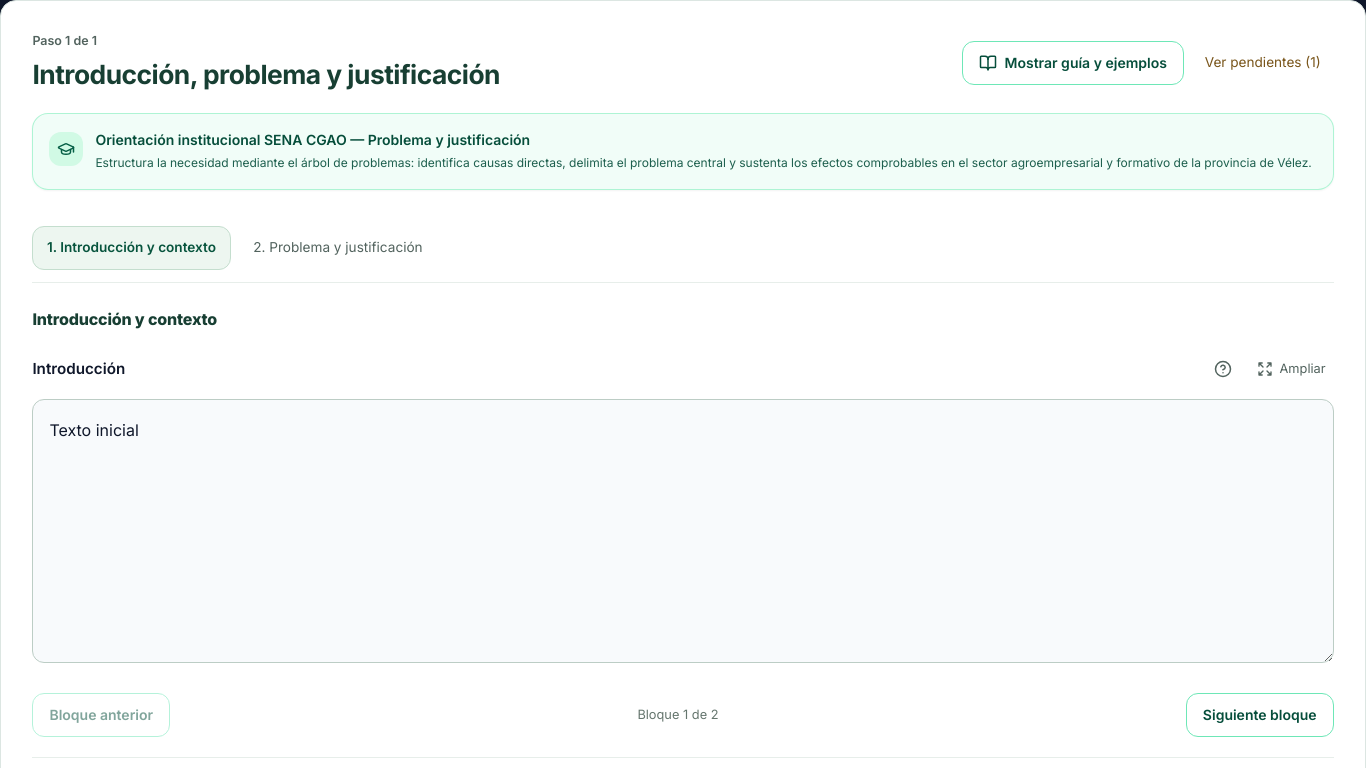
Test: Documentación con información progresiva › mantiene los permisos de consulta en la escritura ampliada
This screenshot has width=1366, height=768.
Click the button with aria-label "Ampliar escritura de Introducción": x=1291, y=369 [1249,347,1334,391]
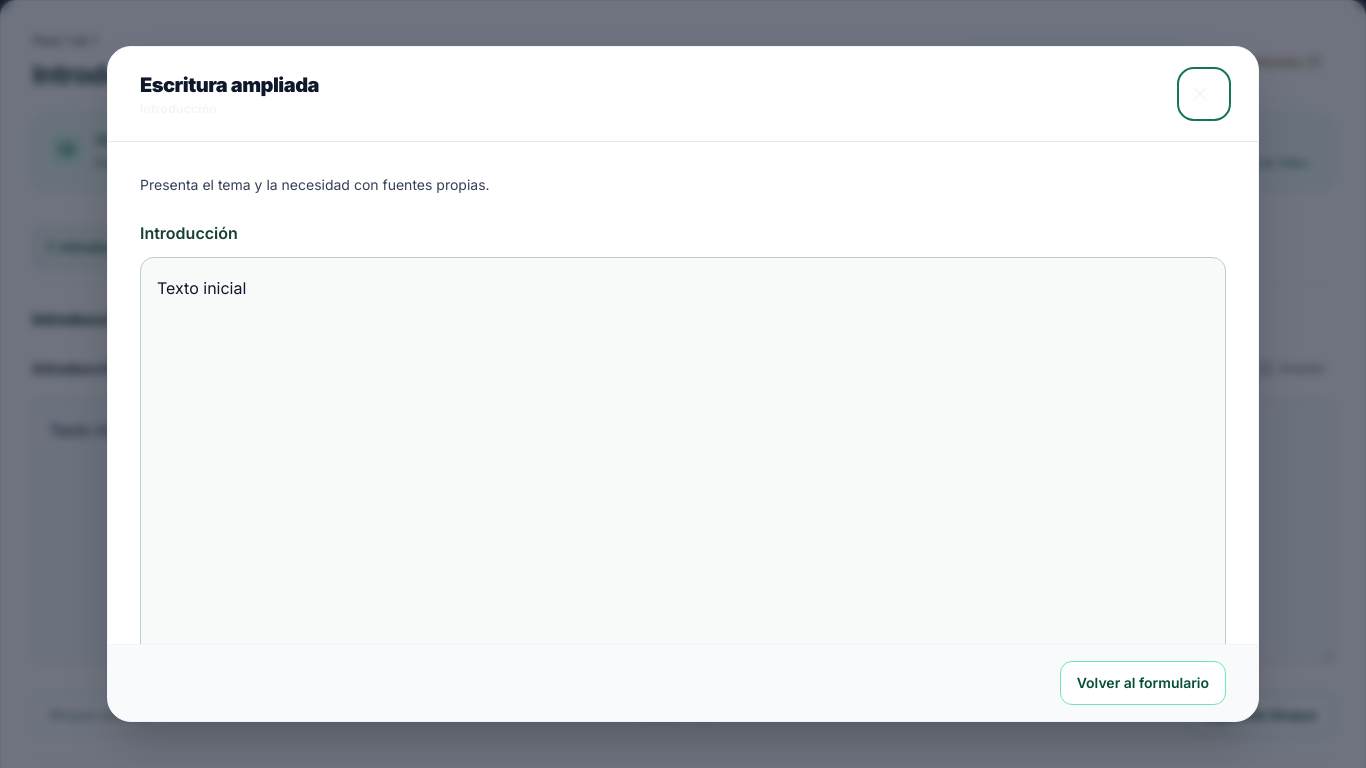
Result: the text box is disabled at [140,257,1226,644]
